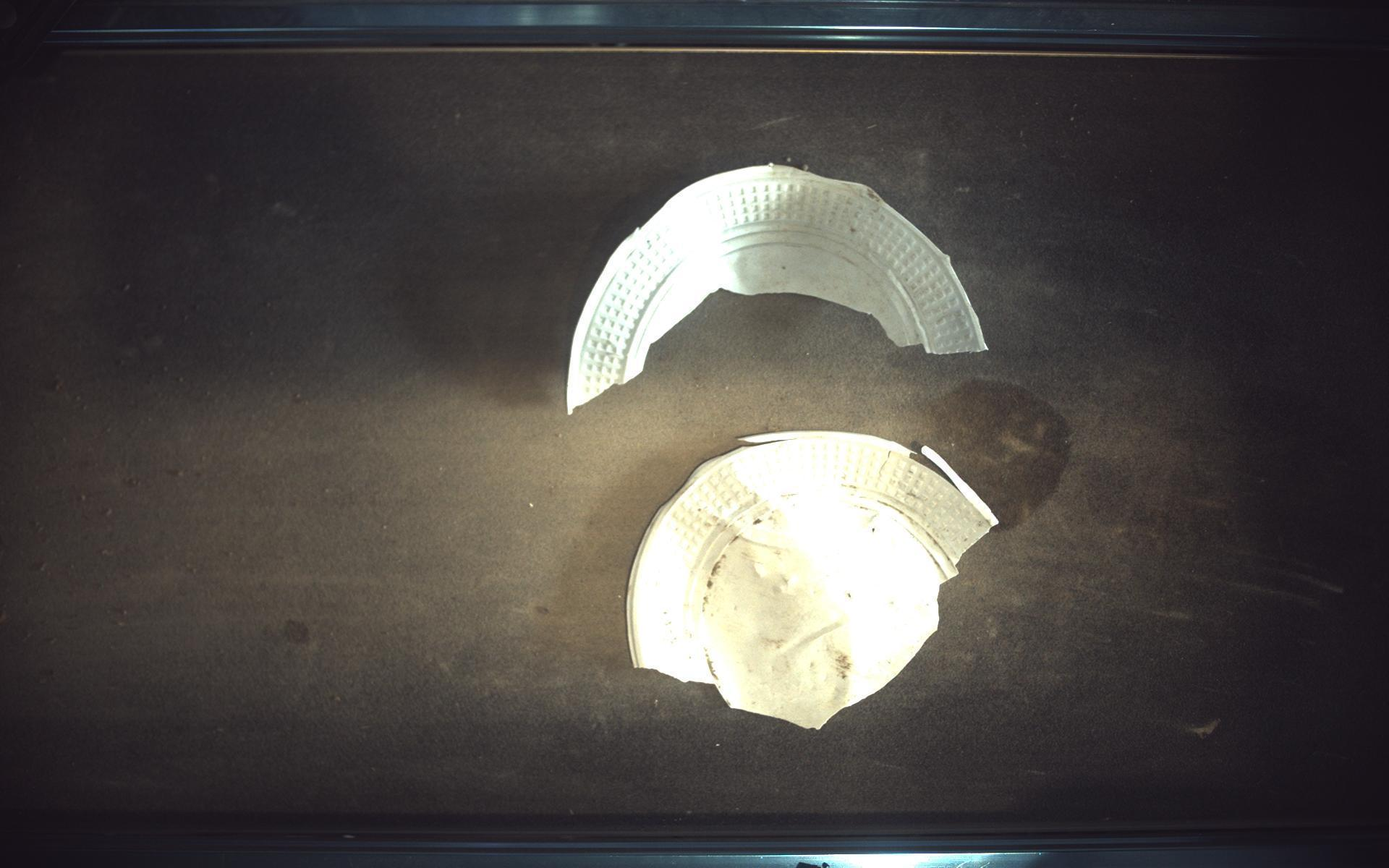general_w: (628, 431, 999, 730), (567, 165, 988, 412)
